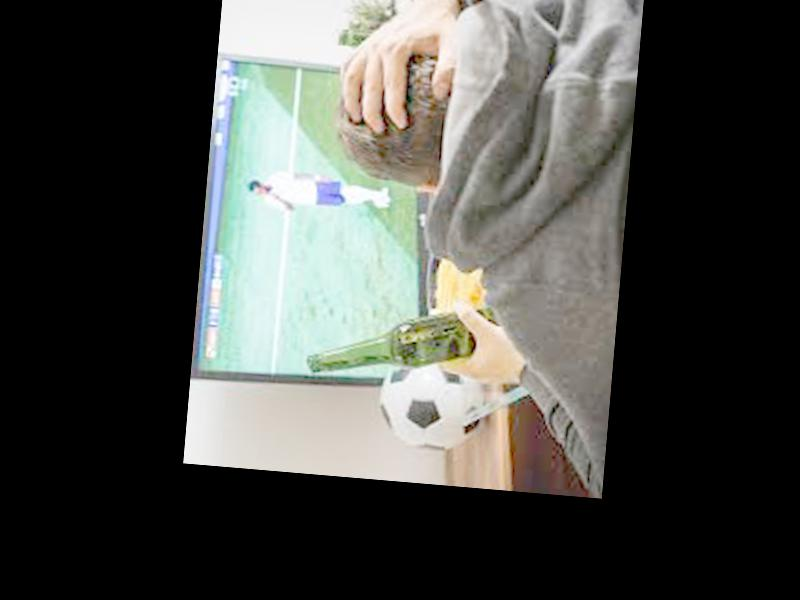Beer: (306, 298, 504, 388)
